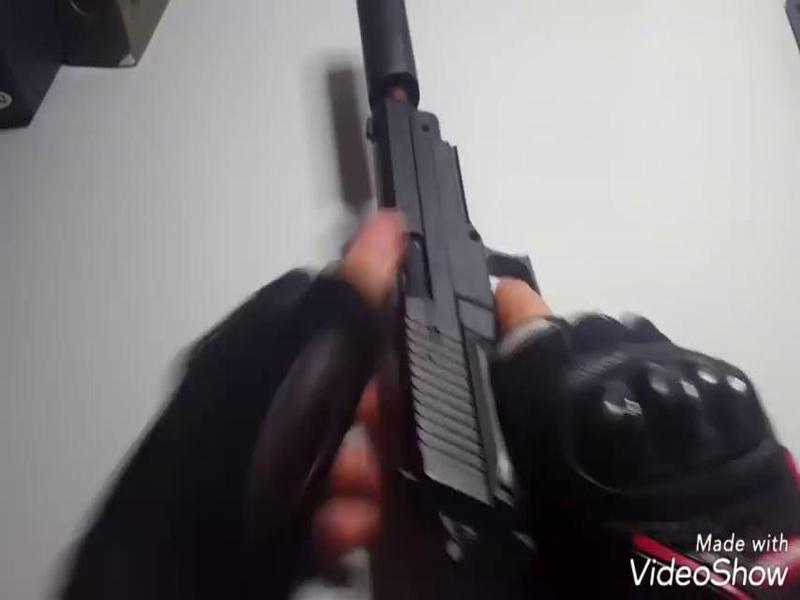Pistola: (361, 94, 623, 575)
